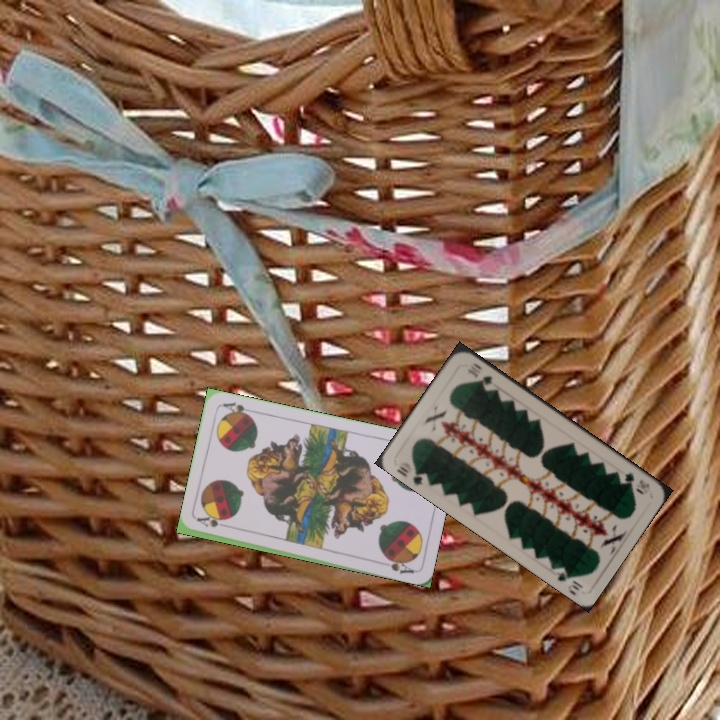G10: (393, 460, 431, 488), (620, 468, 653, 493)
SA: (194, 513, 234, 530)
